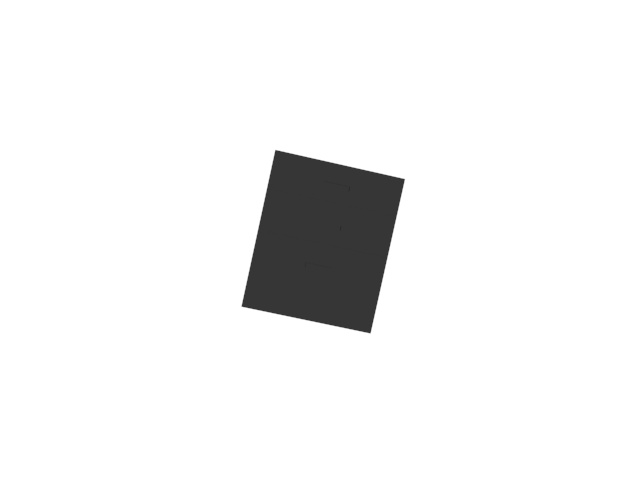file_cabinet: (241, 145, 408, 336)
